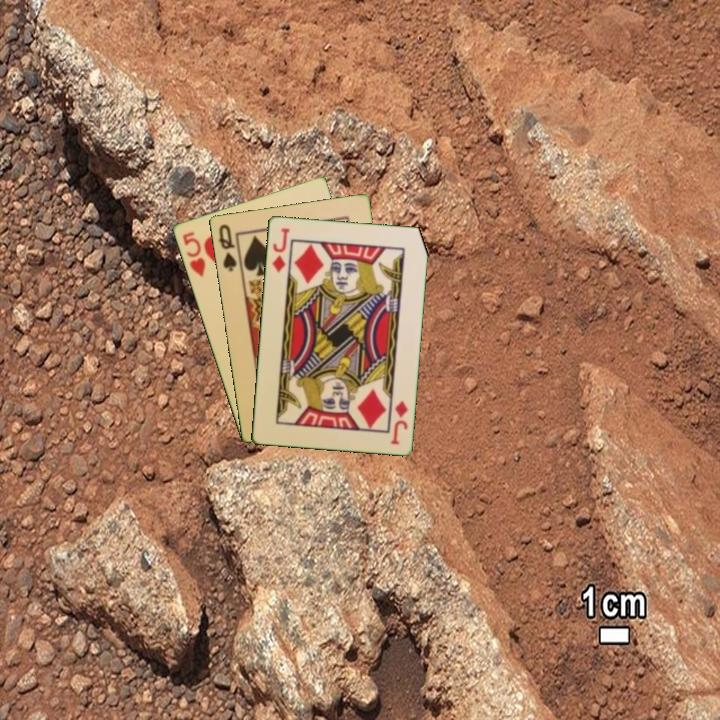5h: (179, 228, 208, 280)
Jd: (268, 224, 292, 275), (387, 397, 410, 447)
Qs: (215, 221, 239, 274)
